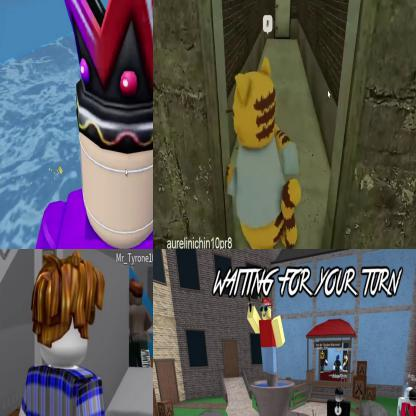Roblox-Avatar: (28, 1, 153, 249), (19, 251, 136, 416), (227, 56, 303, 249), (248, 297, 287, 376), (130, 278, 153, 369), (327, 386, 353, 416), (401, 387, 416, 416), (322, 350, 330, 375), (335, 355, 344, 376)
